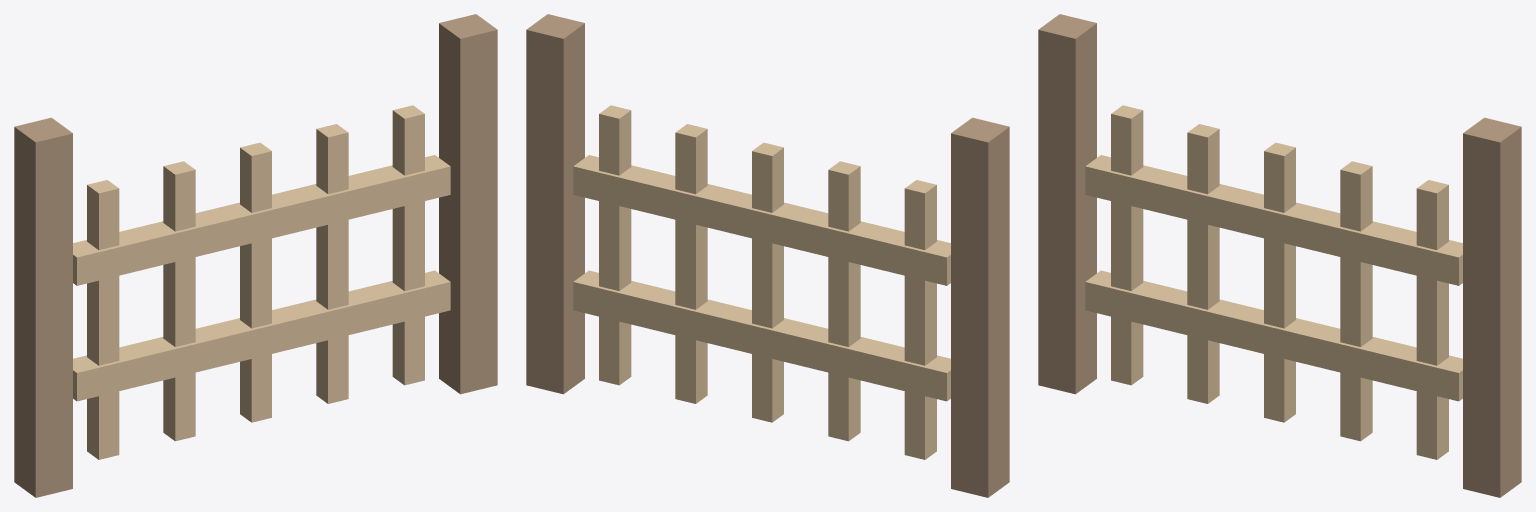
File: fence-gate.glb
The picture shows the model from 3 angles, left to right: view 1: azimuth 30°, elevation 25°; view 2: azimuth 150°, elevation 25°; view 3: azimuth 330°, elevation 25°; orthographic projection.
Visible parts, largest first — view 1: post-left, post-right, gate-low, gate-top, gate-picket-0, gate-picket-1, gate-picket-3, gate-picket-4, gate-picket-2; view 2: post-left, post-right, gate-low, gate-top, gate-picket-0, gate-picket-1, gate-picket-3, gate-picket-4, gate-picket-2; view 3: post-right, post-left, gate-low, gate-top, gate-picket-4, gate-picket-3, gate-picket-1, gate-picket-0, gate-picket-2.
Boxes of the visible parts, x1,y1,x2,y2 form: post-left: (14, 117, 72, 497); post-right: (439, 14, 497, 394); gate-low: (73, 270, 450, 401); gate-top: (73, 155, 450, 285); gate-picket-0: (87, 180, 119, 459); gate-picket-1: (163, 161, 195, 441); gate-picket-3: (316, 124, 348, 403); gate-picket-4: (392, 105, 424, 385); gate-picket-2: (240, 142, 271, 422); post-left: (951, 117, 1009, 497); post-right: (526, 14, 584, 394); gate-low: (573, 270, 950, 401); gate-top: (573, 155, 950, 285); gate-picket-0: (904, 180, 936, 459); gate-picket-1: (828, 161, 860, 441); gate-picket-3: (675, 124, 707, 403); gate-picket-4: (599, 105, 631, 385); gate-picket-2: (752, 142, 783, 422); post-right: (1463, 117, 1521, 497); post-left: (1038, 14, 1096, 394); gate-low: (1085, 270, 1462, 401); gate-top: (1085, 155, 1462, 285); gate-picket-4: (1416, 180, 1448, 459); gate-picket-3: (1340, 161, 1372, 441); gate-picket-1: (1187, 124, 1219, 403); gate-picket-0: (1111, 105, 1143, 385); gate-picket-2: (1264, 142, 1295, 422).
Size of the model in its own units: 2.72 by 2 by 0.22.
